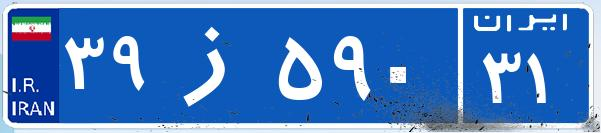0: (385, 28, 445, 110)
1: (525, 38, 570, 115)
3: (57, 26, 110, 107), (475, 38, 525, 113)
5: (273, 28, 330, 110)
9: (330, 28, 385, 110), (110, 28, 158, 105)
ز: (158, 15, 273, 115)
